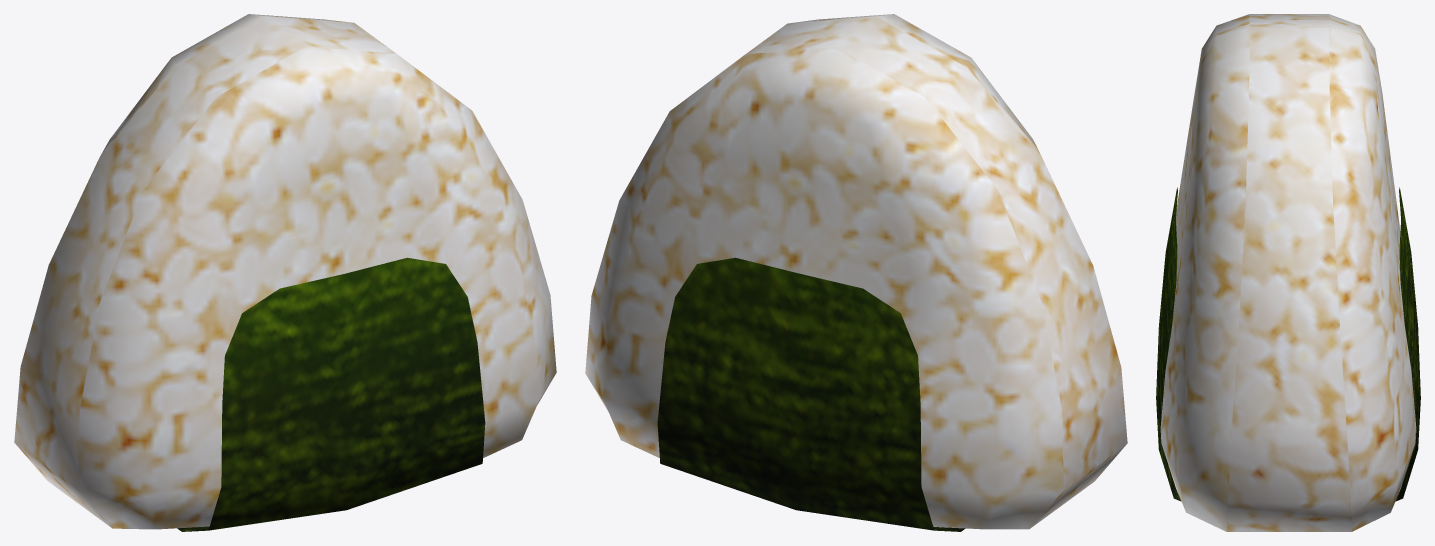
Rendered from onigiri.fbx.
The picture shows the model from 3 angles, left to right: view 1: azimuth 30°, elevation 25°; view 2: azimuth 150°, elevation 25°; view 3: azimuth 270°, elevation 25°; orthographic projection. The views are drawn at different scales.
Visible parts, largest first — view 1: onigiri; view 2: onigiri; view 3: onigiri.
Part boxes in pixels (<box>): onigiri: <box>14,14,556,531</box>; onigiri: <box>585,14,1127,531</box>; onigiri: <box>1156,14,1420,531</box>.
Size of the model in its own units: 52.71 by 47.75 by 26.28.
